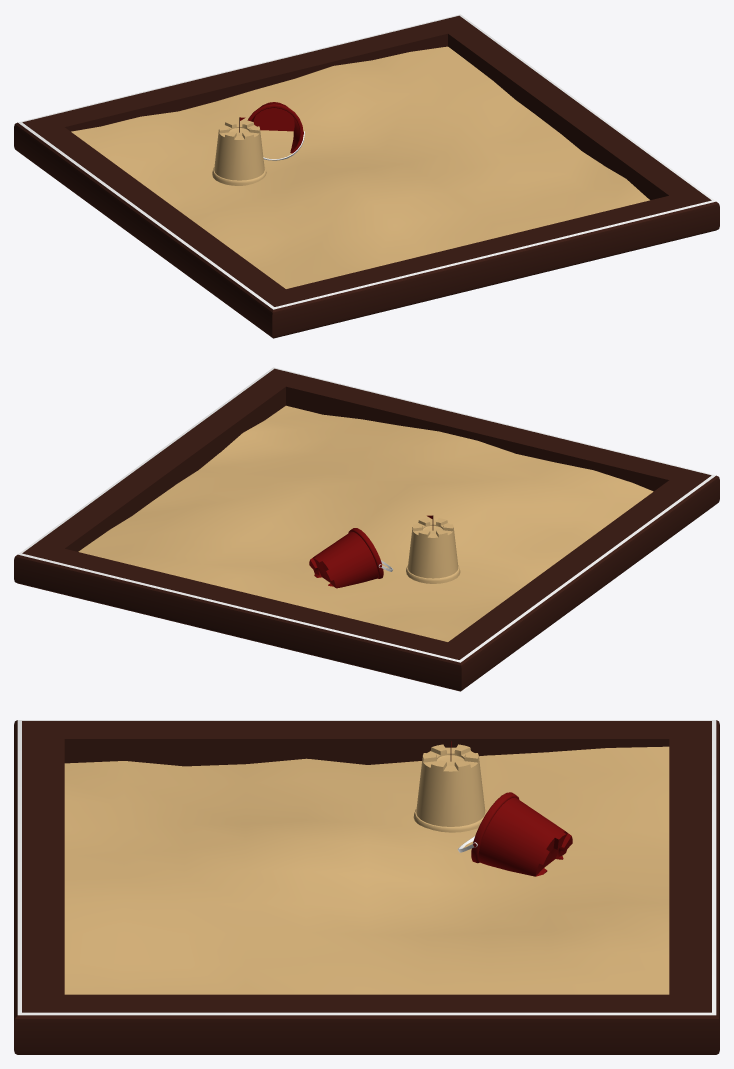
File: Sandbox.FBX
3 renders of one model, top to bottom at view 1: azimuth 30°, elevation 25°; view 2: azimuth 150°, elevation 25°; view 3: azimuth 270°, elevation 25°, orthographic. The views are drawn at different scales.
Visible parts, largest first — view 1: Sand, Sand Box, Sand Castle, Bucket; view 2: Sand, Sand Box, Sand Castle, Bucket; view 3: Sand, Sand Box, Bucket, Sand Castle.
Part boxes in pixels (x1,y1,x2,y2): Sand: (71, 46, 649, 288); Sand Box: (14, 14, 719, 338); Sand Castle: (212, 120, 266, 185); Bucket: (247, 102, 303, 153); Sand: (78, 405, 653, 641); Sand Box: (14, 367, 719, 691); Sand Castle: (406, 518, 460, 583); Bucket: (309, 528, 383, 588); Sand: (64, 746, 669, 994); Sand Box: (14, 720, 719, 1054); Bucket: (471, 792, 572, 876); Sand Castle: (413, 744, 486, 832).
Size of the model in its own units: 39.37 by 39.37 by 6.32.
